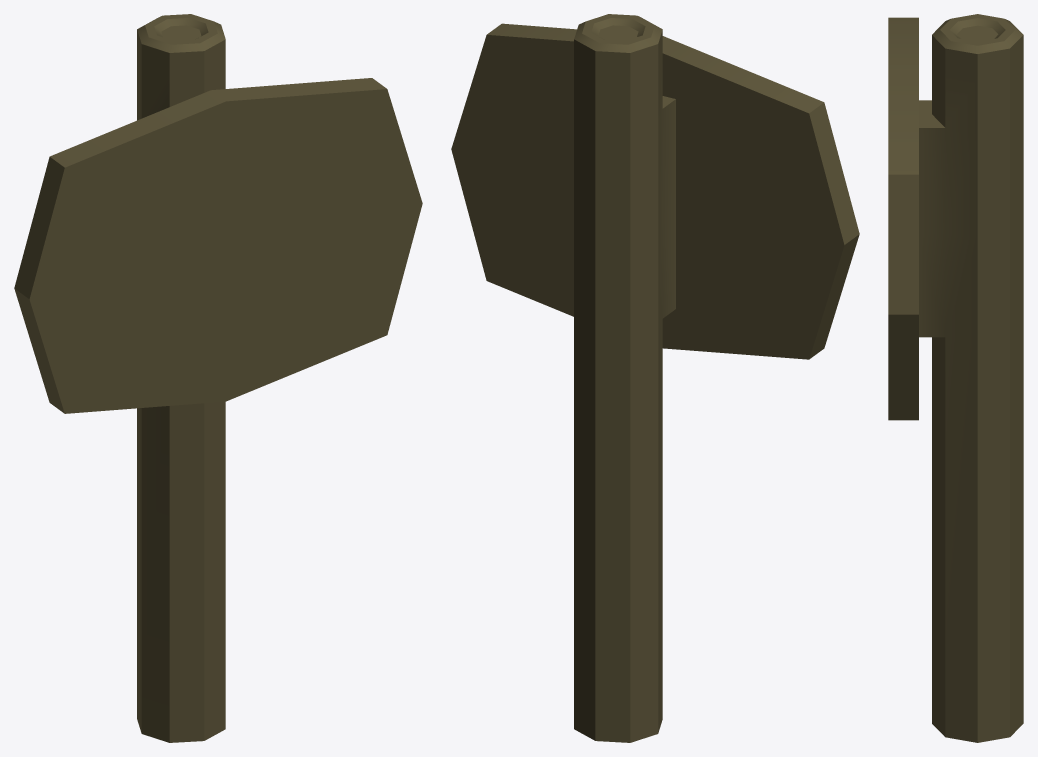
The model's file is LetreroLinterna 1.fbx.
The picture shows the model from 3 angles, left to right: view 1: azimuth 30°, elevation 25°; view 2: azimuth 150°, elevation 25°; view 3: azimuth 270°, elevation 25°; orthographic projection.
Parts seen in each view (by area): view 1: LetreroLinterna; view 2: LetreroLinterna; view 3: LetreroLinterna.
Part boxes in pixels (bbox=[...]): LetreroLinterna: bbox=[14, 14, 422, 742]; LetreroLinterna: bbox=[451, 14, 859, 742]; LetreroLinterna: bbox=[888, 14, 1023, 742].
Bounding box in the file's own units: 1.73 × 2.93 × 0.5168.
